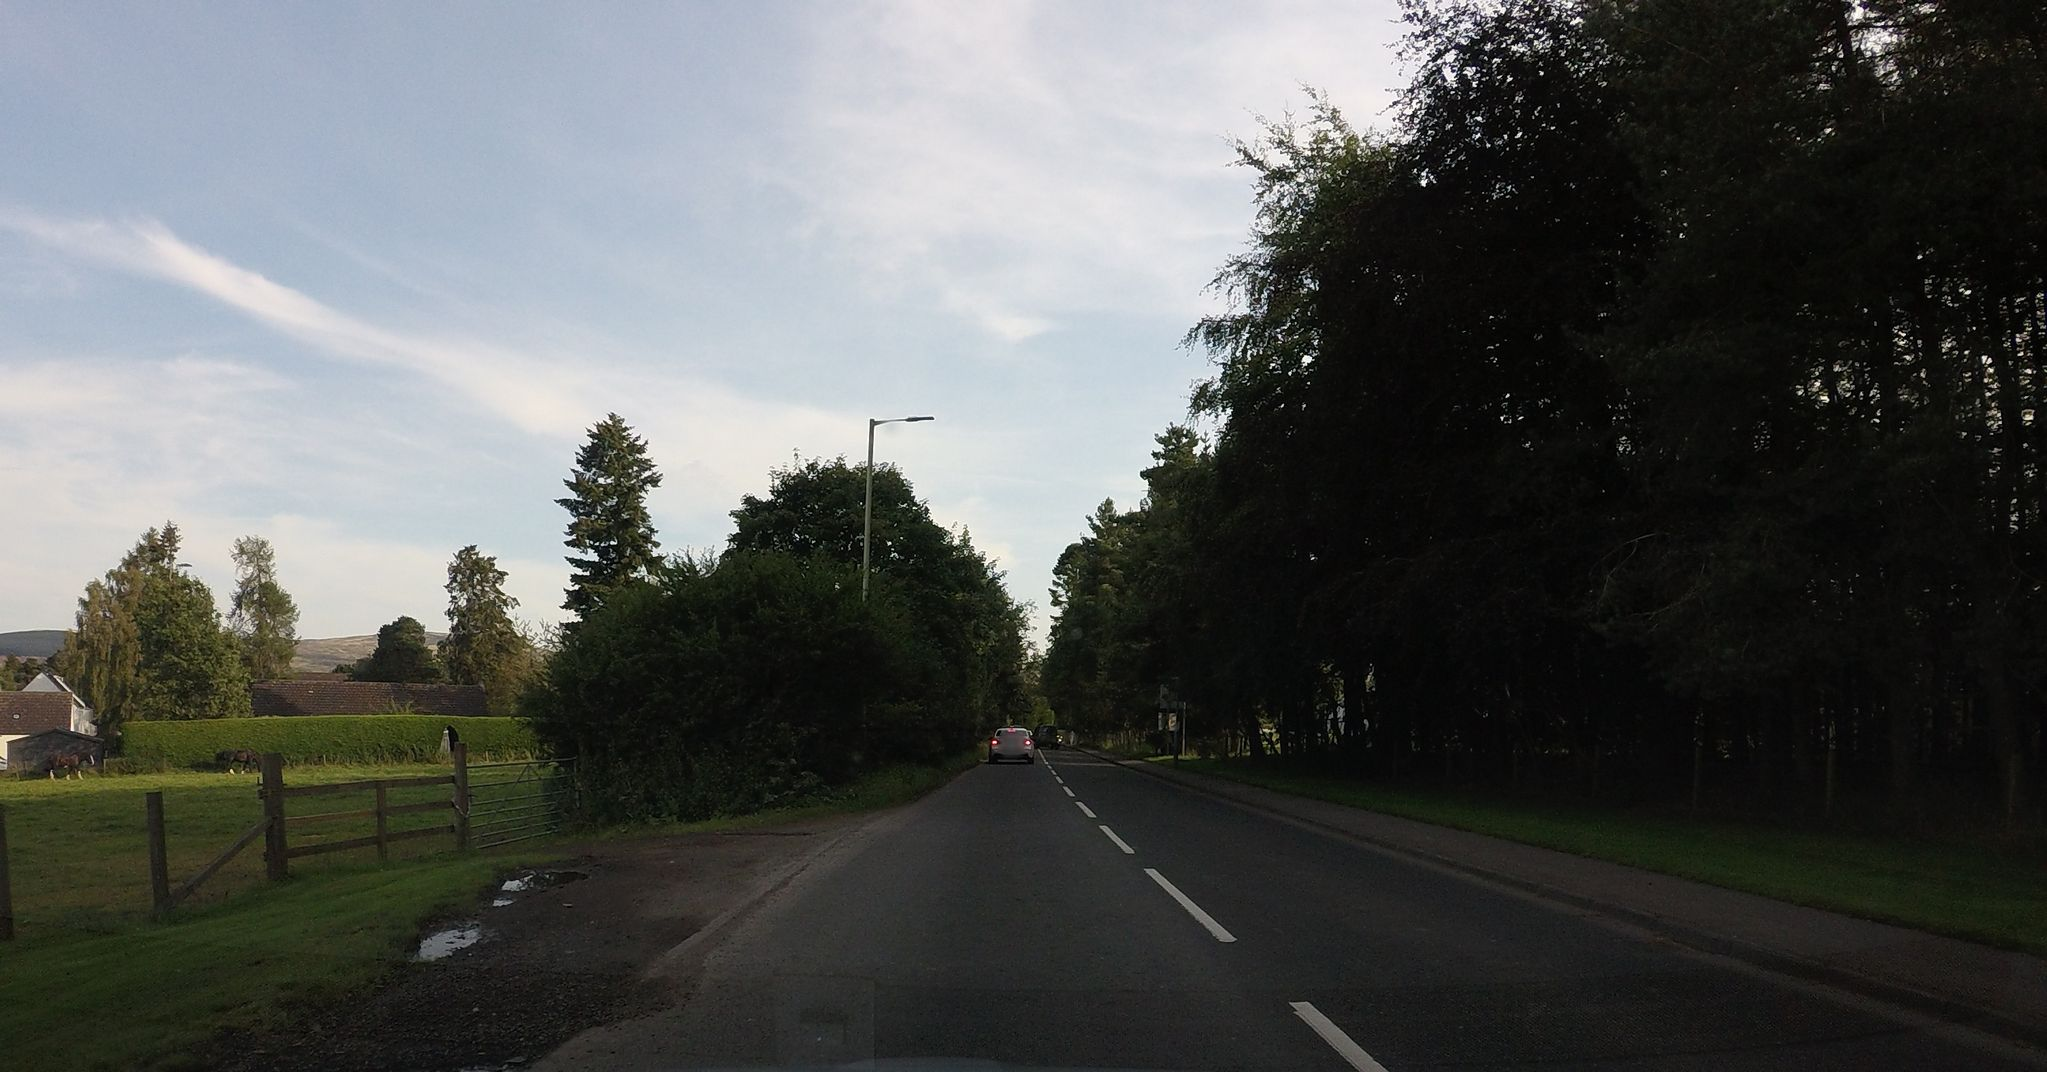car: (990, 725, 1034, 762)
